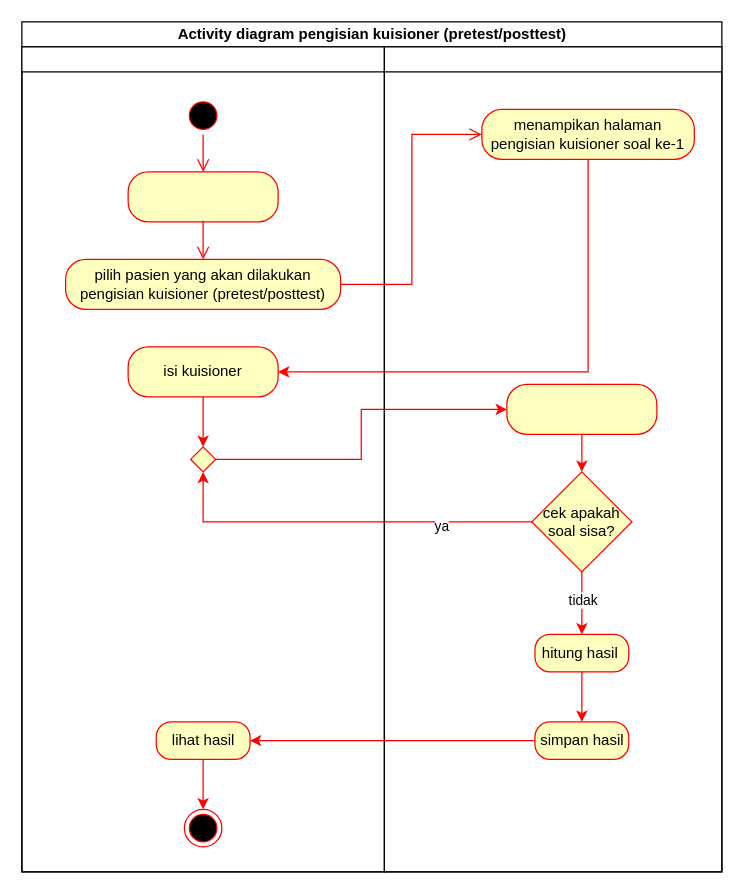
Some shapes in this 744 by 894 pixel diagram are drawn without their labels. Here are the shapes that lost their labels. From the top down, the box of each, then its label:
(127, 171, 278, 222): buka halaman pasien
(506, 383, 657, 434): simpan Jawaban
(21, 46, 384, 872): tim peneliti
(383, 46, 722, 872): SIstem
